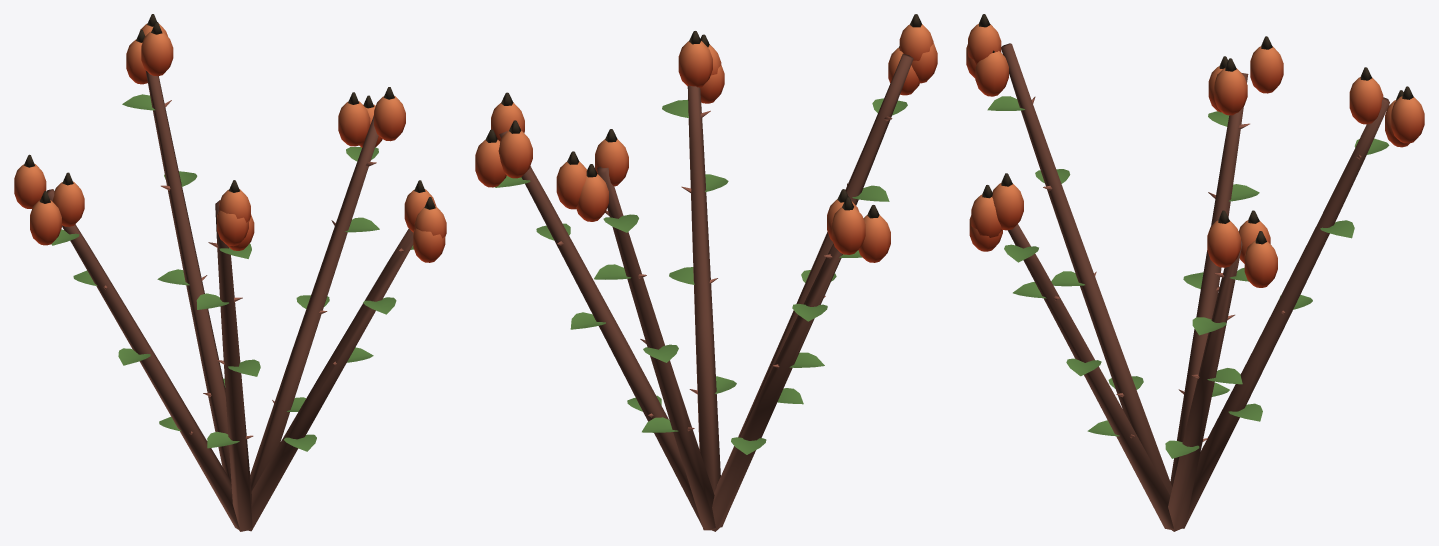
Rendered from ing_rose_hip.glb.
The picture shows the model from 3 angles, left to right: view 1: azimuth 30°, elevation 25°; view 2: azimuth 150°, elevation 25°; view 3: azimuth 270°, elevation 25°; orthographic projection. The views are drawn at different scales.
Parts seen in each view (by area): view 1: ing_rose_hip; view 2: ing_rose_hip; view 3: ing_rose_hip.
Part boxes in pixels (bbox=[...]): ing_rose_hip: bbox=[14, 14, 446, 531]; ing_rose_hip: bbox=[475, 14, 937, 531]; ing_rose_hip: bbox=[966, 14, 1424, 531].
Size of what is drawn, in the model's own units: 0.5583 by 0.6301 by 0.5676.
